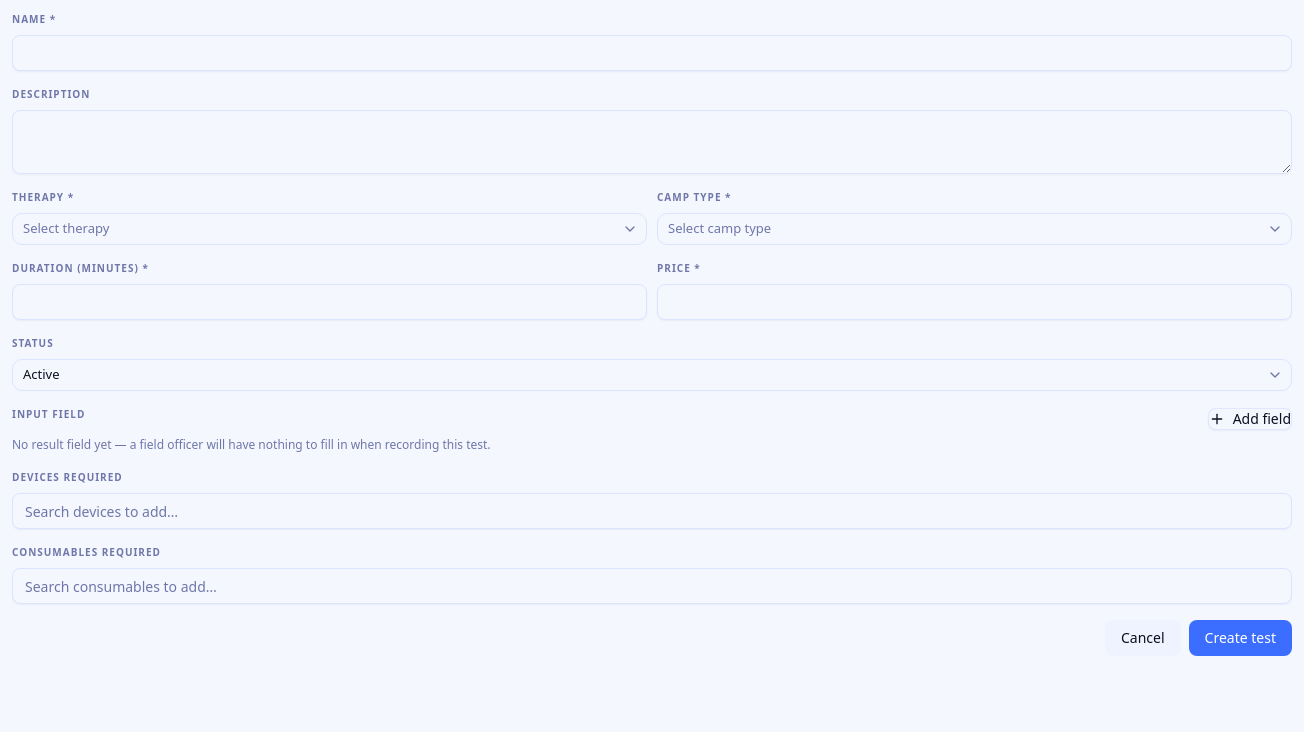
TestForm — create mode › blocks submission until a camp type is consciously chosen — no first-enum-value default
In the field labelled "Name *": (652, 53) [12,35,1292,71], type "ECG Test"
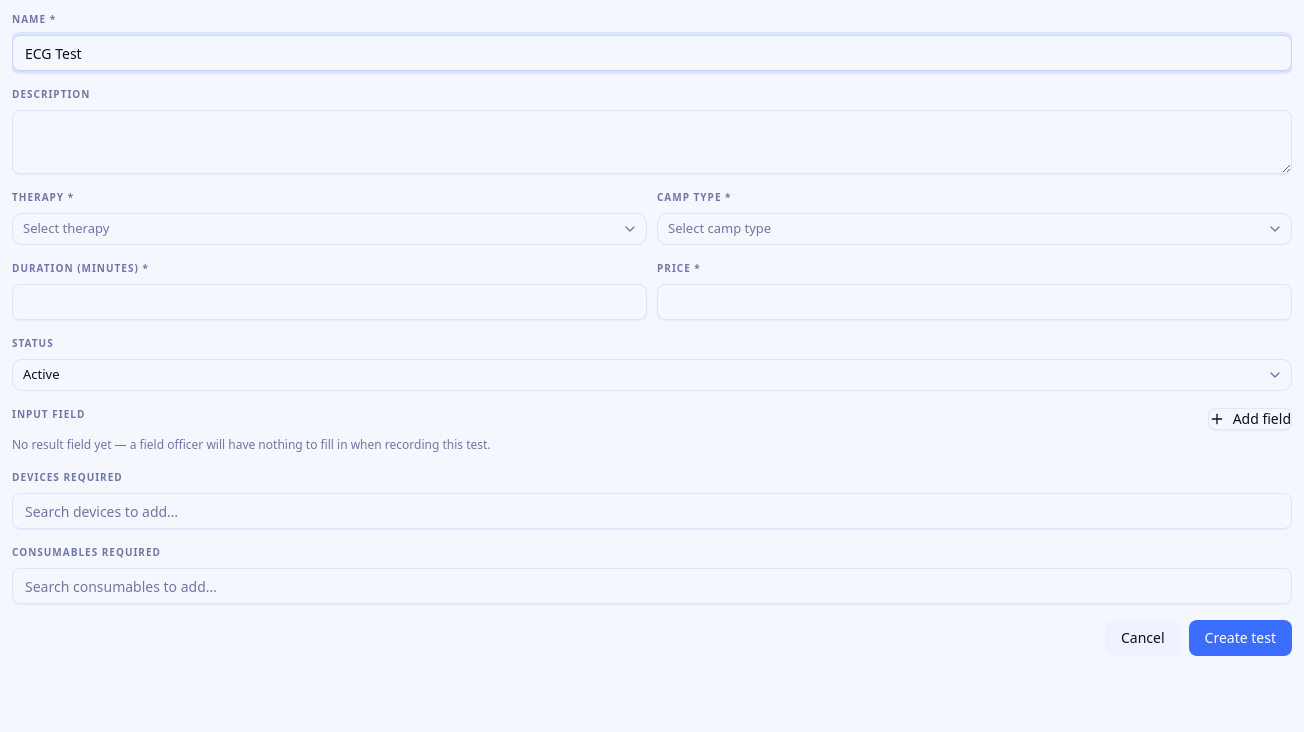
Click the dropdown labelled "Select therapy ▼": (66, 228) [12,213,647,245]
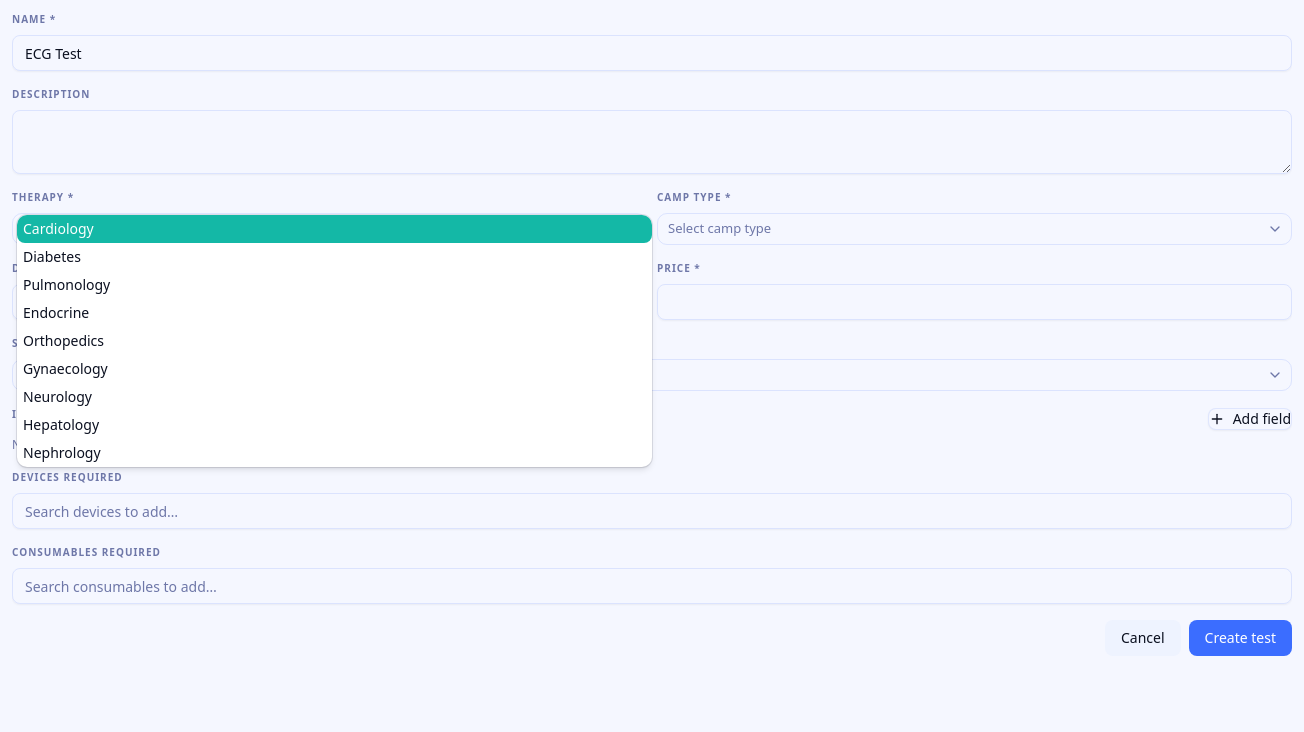
Click the option "Cardiology": (58, 228) [17,215,652,243]
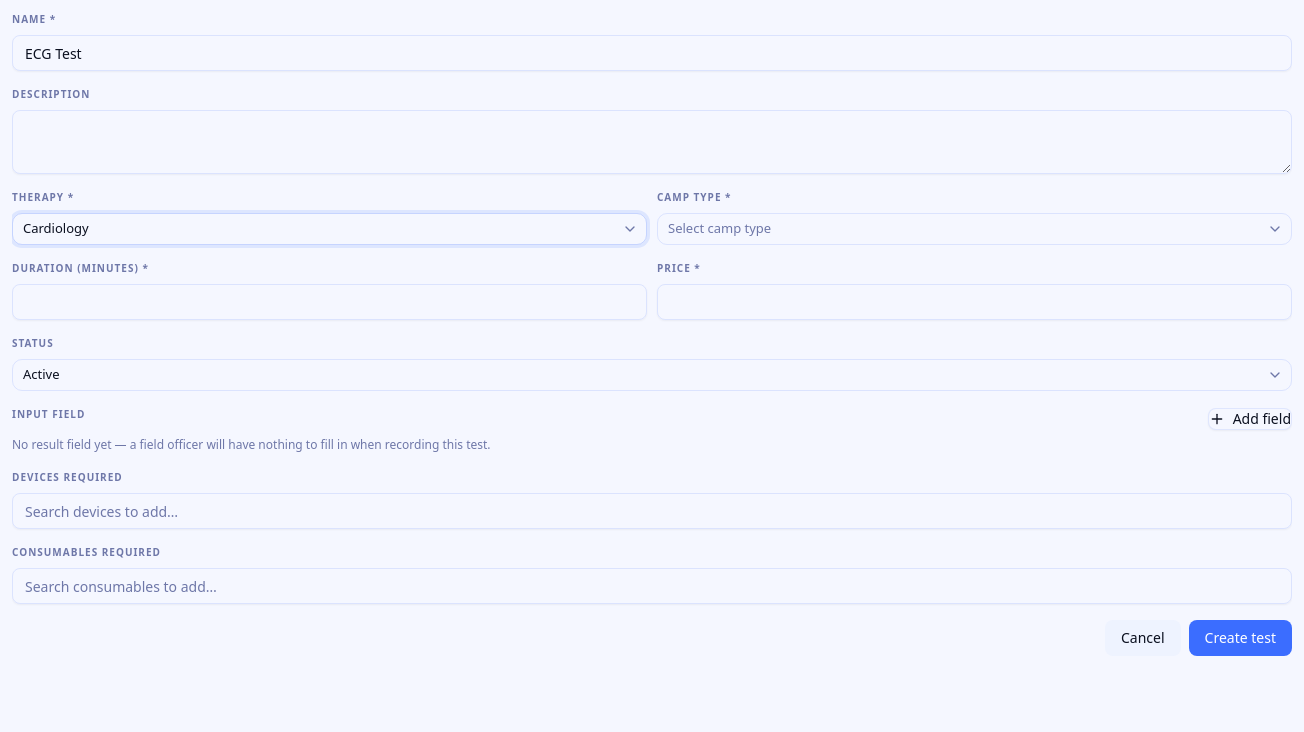
In the number field labelled "Duration (minutes) *": (330, 302) [12,284,647,320], type "15"
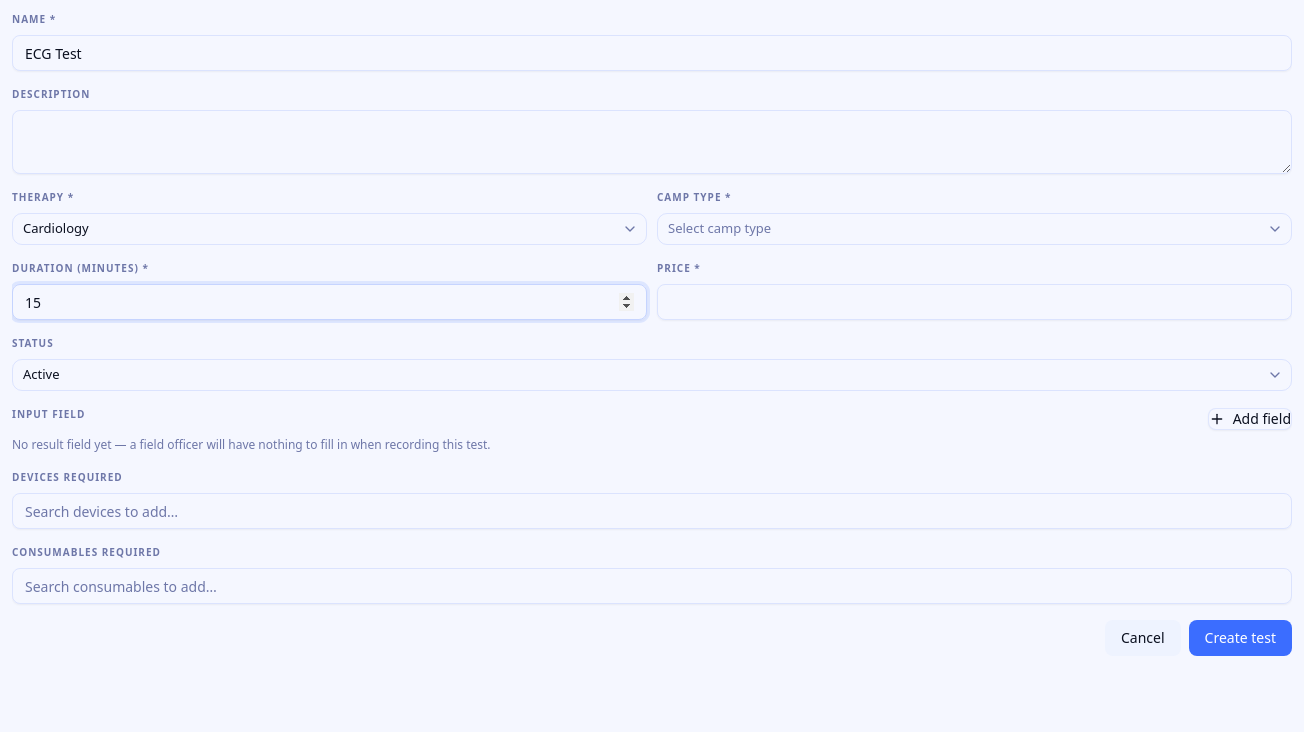
In the number field labelled "Price *": (974, 302) [657,284,1292,320], type "250"
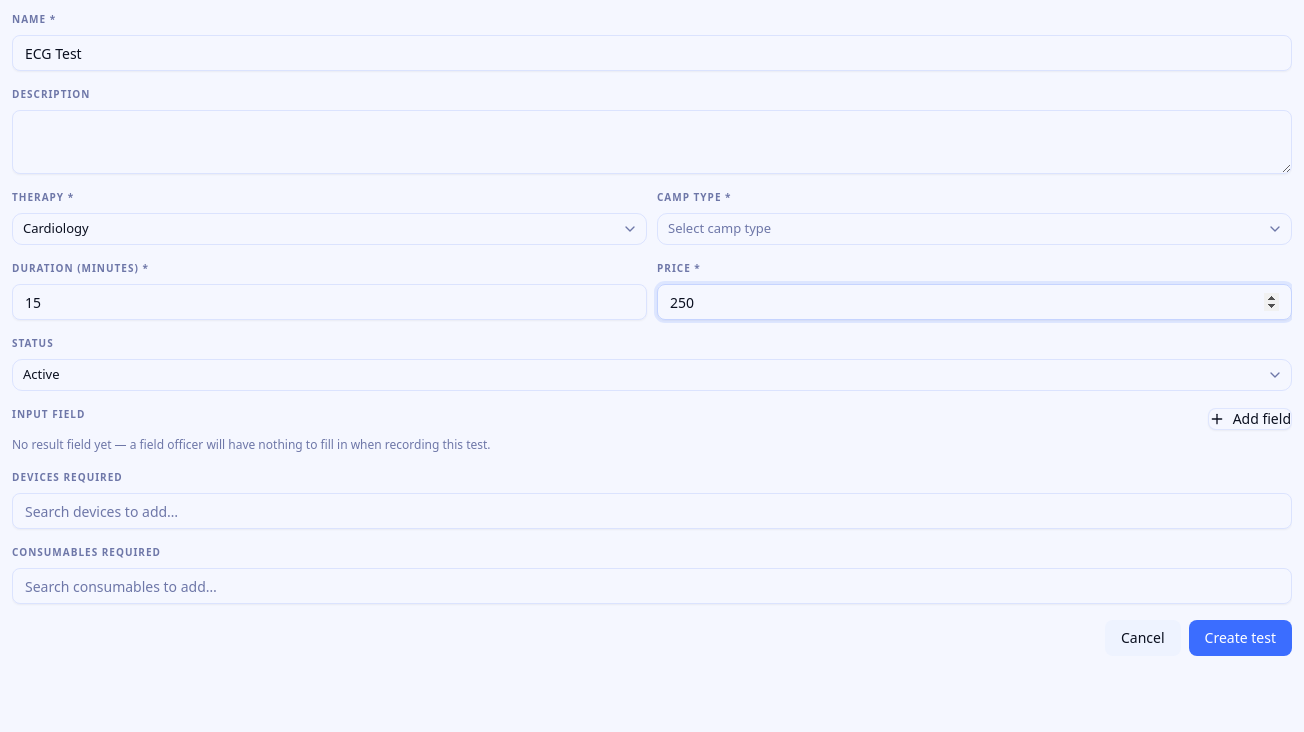
Click the button "Create test": (1240, 638) [1189,620,1292,656]
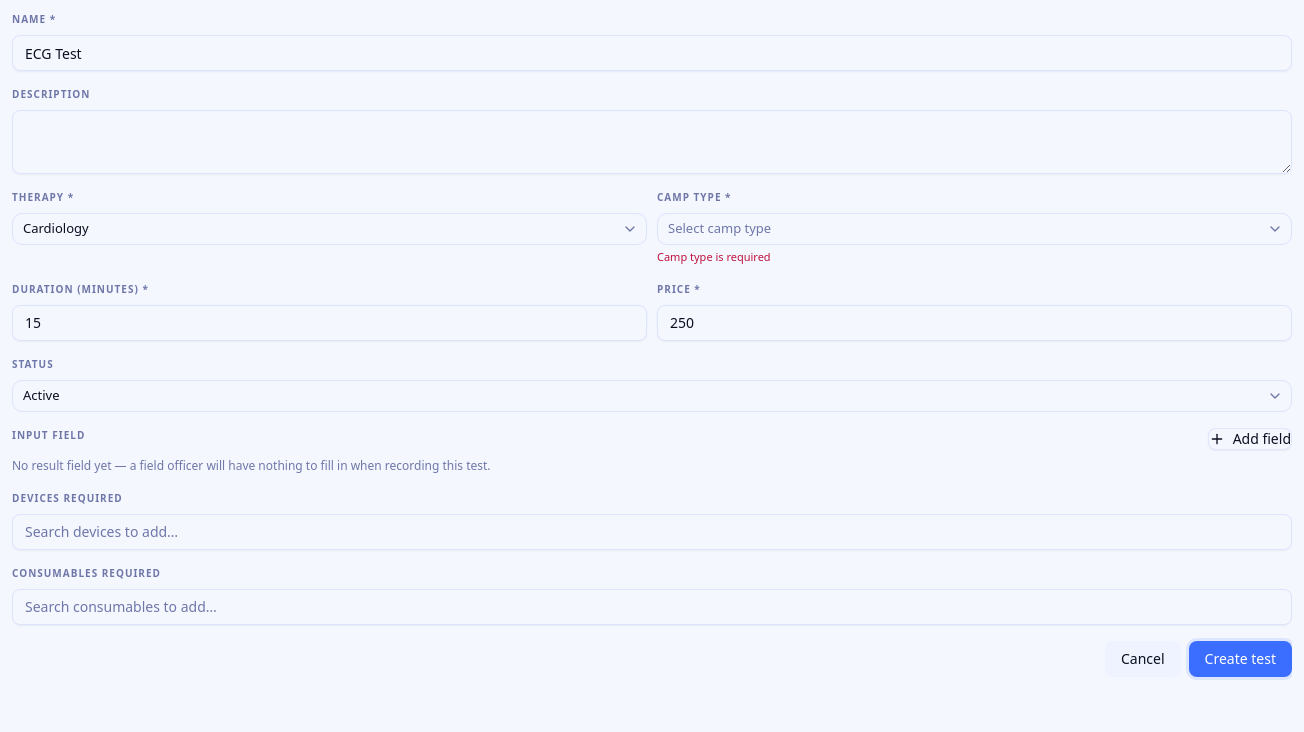
Expected: the text "Select camp type" is shown, [668,219,771,237]
Expected: the text "Camp type is required" is shown, [657,249,771,264]
